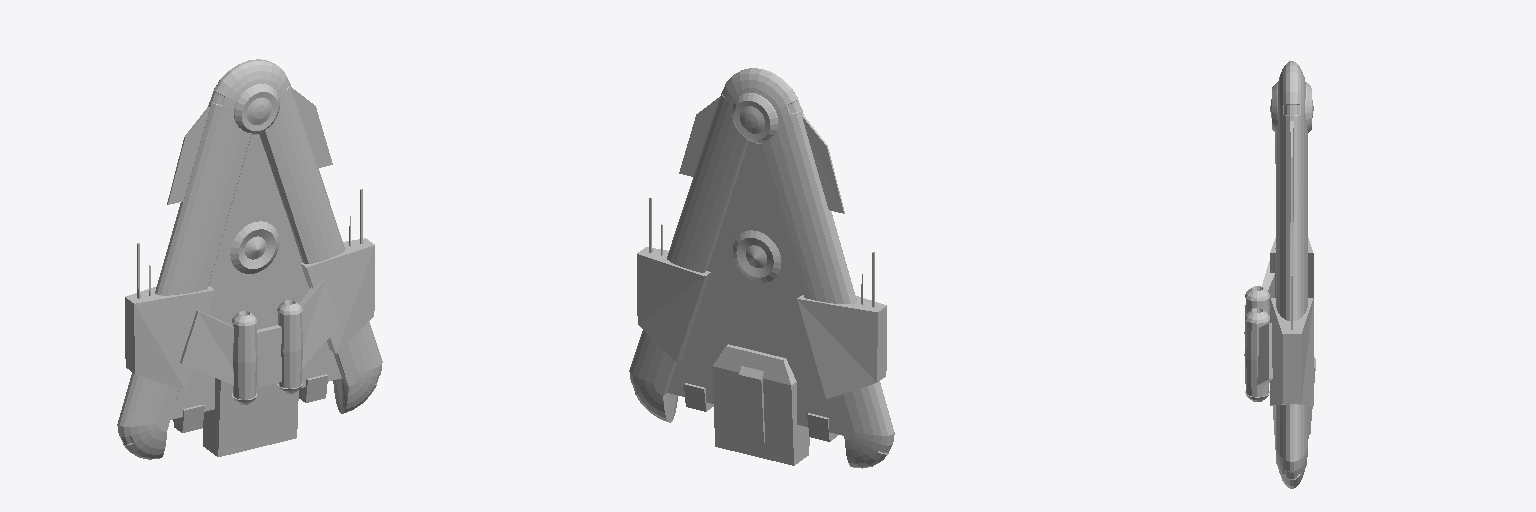
Rendered from craft_periapsis.obj.
3 renders of one model, left to right at view 1: azimuth 30°, elevation 25°; view 2: azimuth 150°, elevation 25°; view 3: azimuth 270°, elevation 25°, orthographic.
Visible parts, largest first — view 1: g0; view 2: g0; view 3: g0.
Part boxes in pixels (left/top/right/bottom): g0: left=117, top=59, right=382, bottom=459; g0: left=629, top=68, right=894, bottom=468; g0: left=1244, top=61, right=1315, bottom=488.
Bounding box in the file's own units: 12.38 × 17.13 × 2.9.